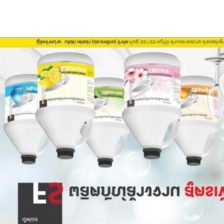cleaning_solution: (119, 50, 184, 162), (33, 50, 96, 161), (74, 75, 135, 170), (1, 72, 58, 166), (164, 73, 220, 168)
